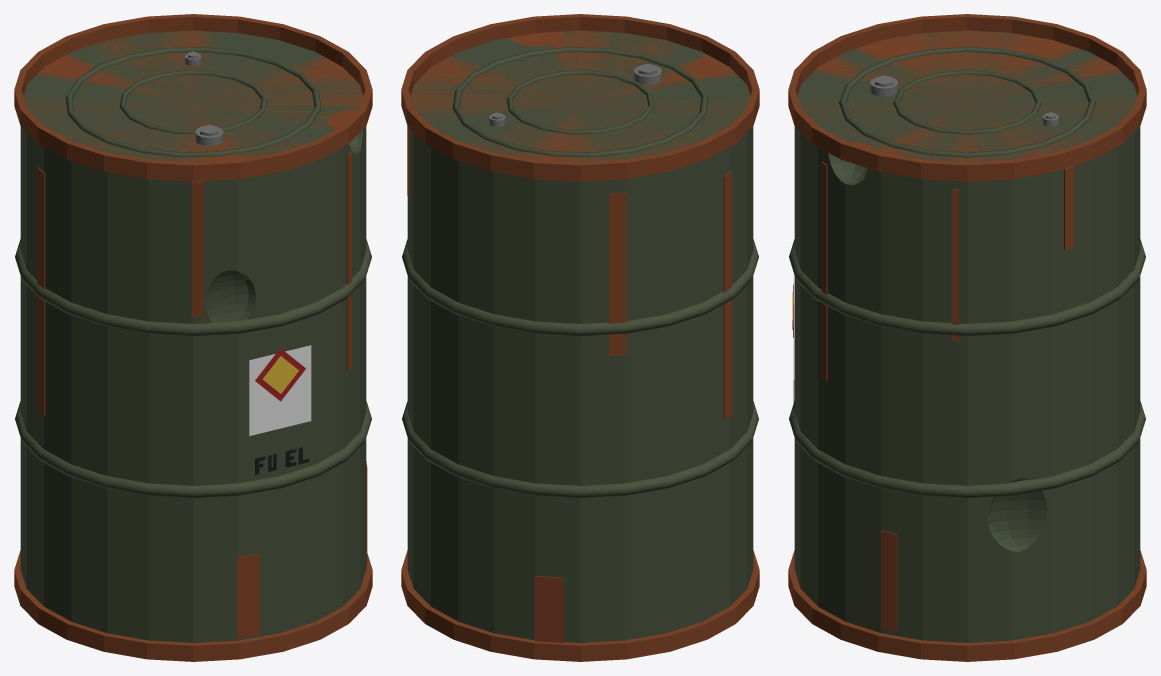
Rendered from fuel-drum.glb.
3 views of the same model, side by side, from view 1: azimuth 30°, elevation 25°; view 2: azimuth 150°, elevation 25°; view 3: azimuth 270°, elevation 25° (orthographic).
Visible parts, largest first — view 1: Mesh_DentedBody, Mesh_TopChime, Mesh_BotChime, Mesh_RibUpper, Mesh_RibLower, Mesh_TopRidge1, Mesh_PlacardBase, Mesh_Streak6, Mesh_BotStreak1, Mesh_Streak1, Mesh_TopRidge2, Mesh_Streak2 (+2 smaller); view 2: Mesh_DentedBody, Mesh_TopChime, Mesh_BotChime, Mesh_RibLower, Mesh_RibUpper, Mesh_TopRidge1, Mesh_Streak3, Mesh_Streak6, Mesh_BotStreak3, Mesh_TopRidge2; view 3: Mesh_DentedBody, Mesh_TopChime, Mesh_BotChime, Mesh_RibLower, Mesh_RibUpper, Mesh_TopRidge1, Mesh_BotStreak2, Mesh_TopRidge2, Mesh_Streak2, Mesh_Streak5, Mesh_Streak4.
Part boxes in pixels (x1,y1,x2,y2): Mesh_DentedBody: (20,30,366,642); Mesh_TopChime: (14,14,372,181); Mesh_BotChime: (14,550,372,661); Mesh_RibUpper: (15,239,371,336); Mesh_RibLower: (15,401,371,497); Mesh_TopRidge1: (65,47,321,157); Mesh_PlacardBase: (249,345,311,435); Mesh_Streak6: (37,167,45,415); Mesh_BotStreak1: (237,554,259,638); Mesh_Streak1: (191,181,203,316); Mesh_TopRidge2: (119,70,267,134); Mesh_Streak2: (347,152,351,371); Mesh_DentedBody: (407,30,753,642); Mesh_TopChime: (401,14,759,181); Mesh_BotChime: (401,550,759,661); Mesh_RibLower: (402,401,758,497); Mesh_RibUpper: (402,239,758,336); Mesh_TopRidge1: (452,47,708,157); Mesh_Streak3: (609,192,626,356); Mesh_Streak6: (723,171,731,419); Mesh_BotStreak3: (534,576,563,643); Mesh_TopRidge2: (506,70,654,134); Mesh_DentedBody: (794,30,1140,642); Mesh_TopChime: (788,14,1146,181); Mesh_BotChime: (788,550,1146,661); Mesh_RibLower: (789,401,1145,497); Mesh_RibUpper: (789,239,1145,336); Mesh_TopRidge1: (839,47,1095,157); Mesh_BotStreak2: (880,531,897,631); Mesh_TopRidge2: (893,70,1041,134); Mesh_Streak2: (821,161,827,380); Mesh_Streak5: (951,189,958,340); Mesh_Streak4: (1064,166,1074,250).
Size of the model in its own units: 0.602 by 0.92 by 0.602.
